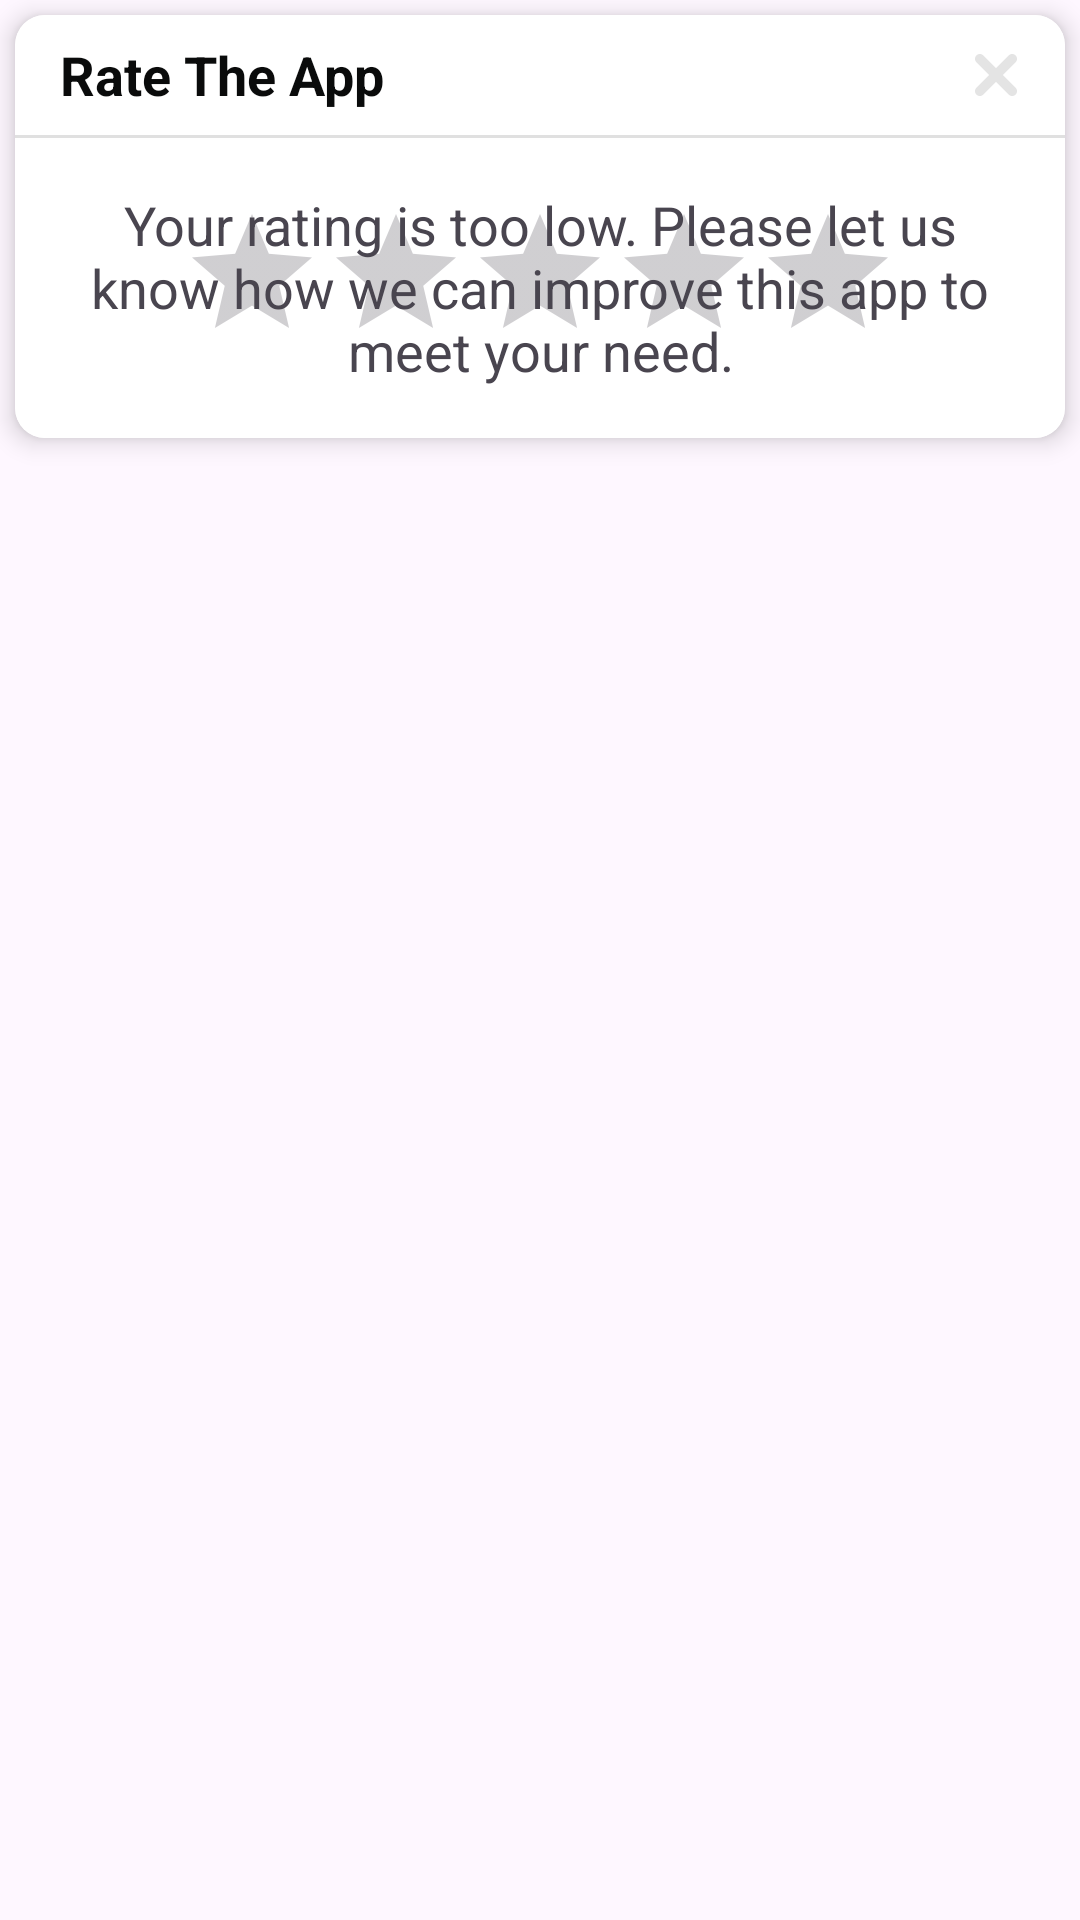

Icon click points for this 1080*1920 phone screenshot, format (x,y):
cross: (996,75)
